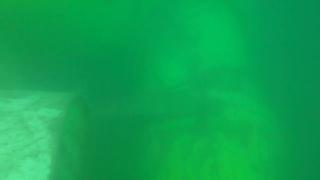pipe: (140, 1, 283, 179), (1, 90, 92, 180), (1, 1, 142, 54)
